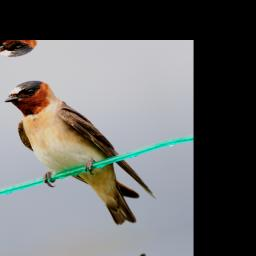Swallow: (0, 59, 162, 246)
